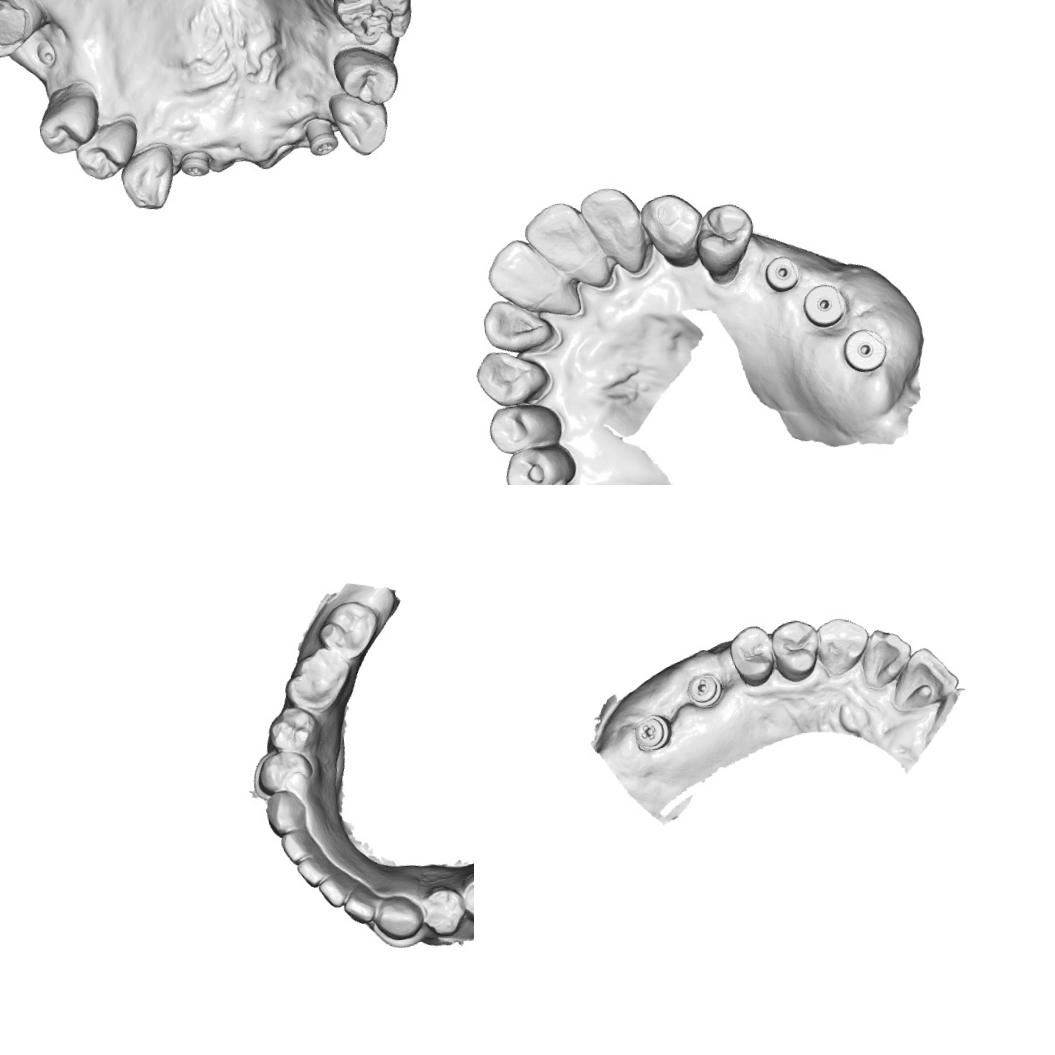canine: (638, 189, 708, 274), (474, 345, 555, 412), (326, 86, 392, 160), (116, 142, 178, 213), (811, 613, 873, 679), (373, 891, 426, 943), (262, 788, 308, 838)
implant: (839, 325, 890, 376), (799, 282, 848, 330), (762, 254, 802, 294)
implant_minus: (684, 670, 725, 711)
implant_plus: (630, 710, 673, 756), (300, 113, 341, 160), (178, 148, 214, 180)
incisor: (577, 182, 652, 280), (519, 196, 598, 278), (886, 642, 963, 716), (482, 236, 560, 302), (478, 294, 562, 355), (858, 623, 918, 691), (278, 826, 317, 865), (340, 890, 377, 927), (316, 875, 350, 910), (296, 855, 330, 889)
molar: (280, 644, 358, 718), (325, 0, 417, 50), (314, 597, 384, 661), (0, 0, 46, 62)
premolar: (692, 200, 760, 288), (32, 80, 106, 159), (71, 116, 145, 183), (330, 42, 402, 109), (485, 400, 566, 455), (767, 616, 823, 684), (725, 622, 777, 690), (252, 746, 316, 797), (502, 445, 581, 485), (266, 703, 323, 754), (418, 881, 468, 938), (459, 866, 474, 925)
